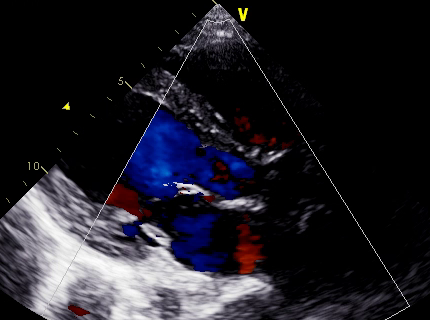MR: (128, 171, 180, 235)
